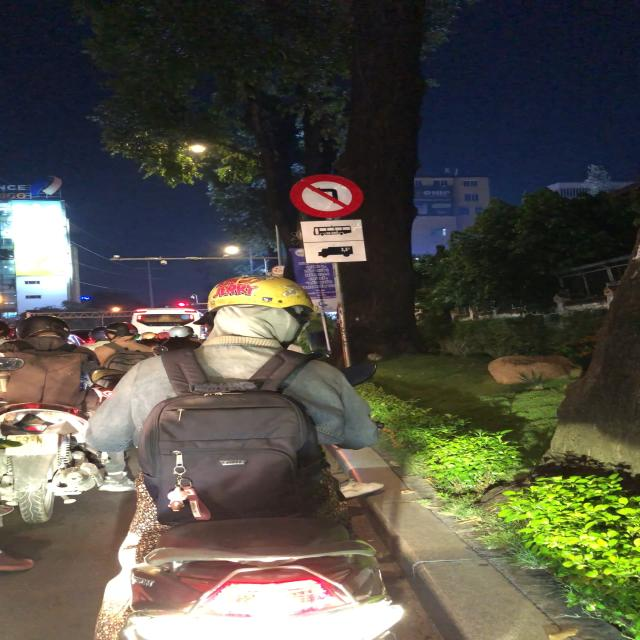Bien bao cam re trai: (289, 172, 364, 219)
